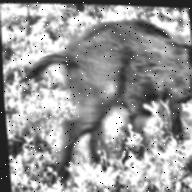boar: (20, 15, 192, 179)
